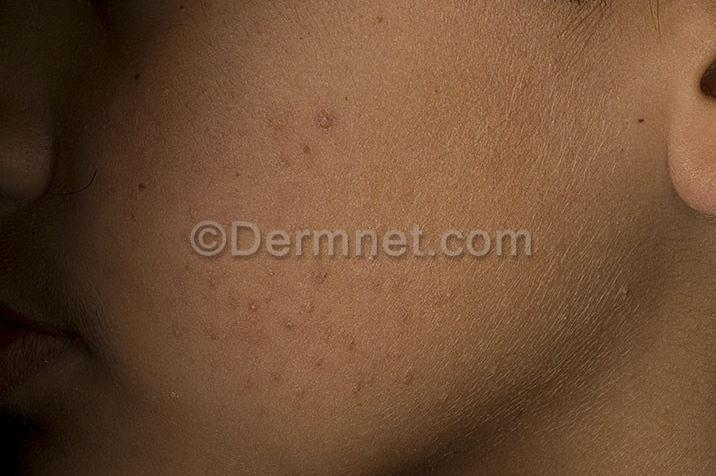edema 1: (158, 97, 426, 420)
